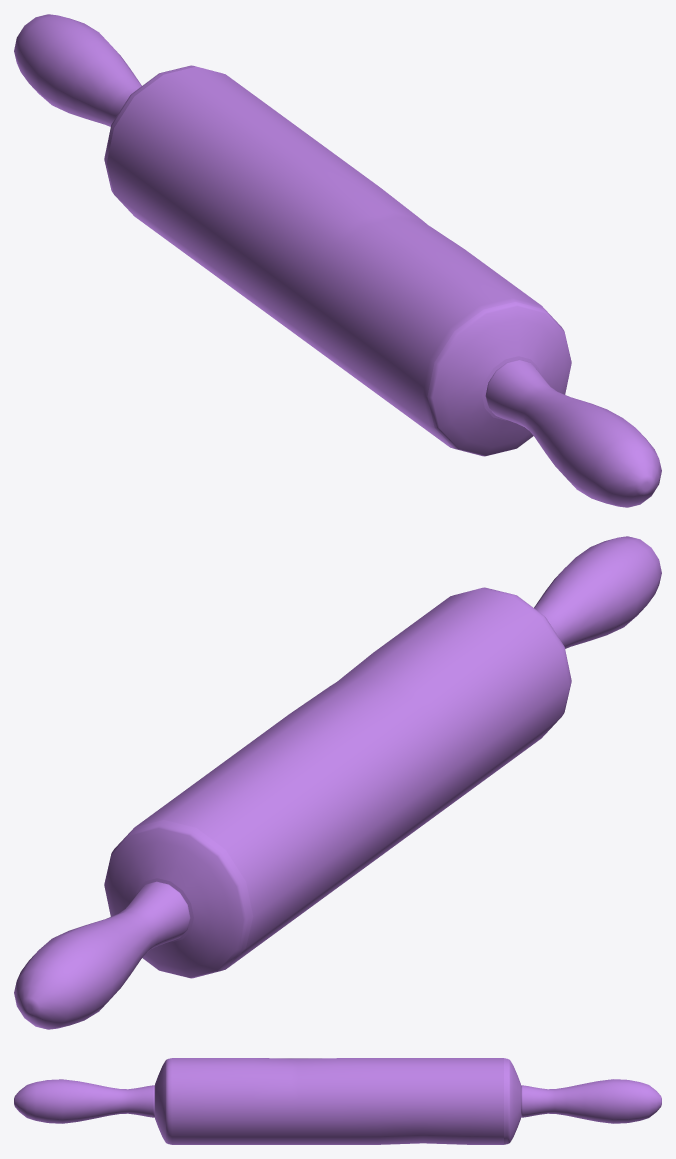
Rendered from Friday_RollingPin.fbx.
3 renders of one model, top to bottom at view 1: azimuth 30°, elevation 25°; view 2: azimuth 150°, elevation 25°; view 3: azimuth 270°, elevation 25°, orthographic. The views are drawn at different scales.
Parts seen in each view (by area): view 1: Rolling_Pin5; view 2: Rolling_Pin5; view 3: Rolling_Pin5.
Boxes of the visible parts, left/top/right/bottom form: Rolling_Pin5: left=14, top=14, right=661, bottom=507; Rolling_Pin5: left=14, top=536, right=661, bottom=1029; Rolling_Pin5: left=14, top=1058, right=661, bottom=1144.
Bounding box in the file's own units: 35.35 × 34.47 × 258.
